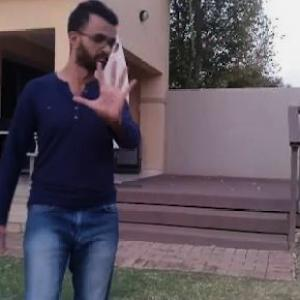follow_hand: (72, 55, 140, 126)
